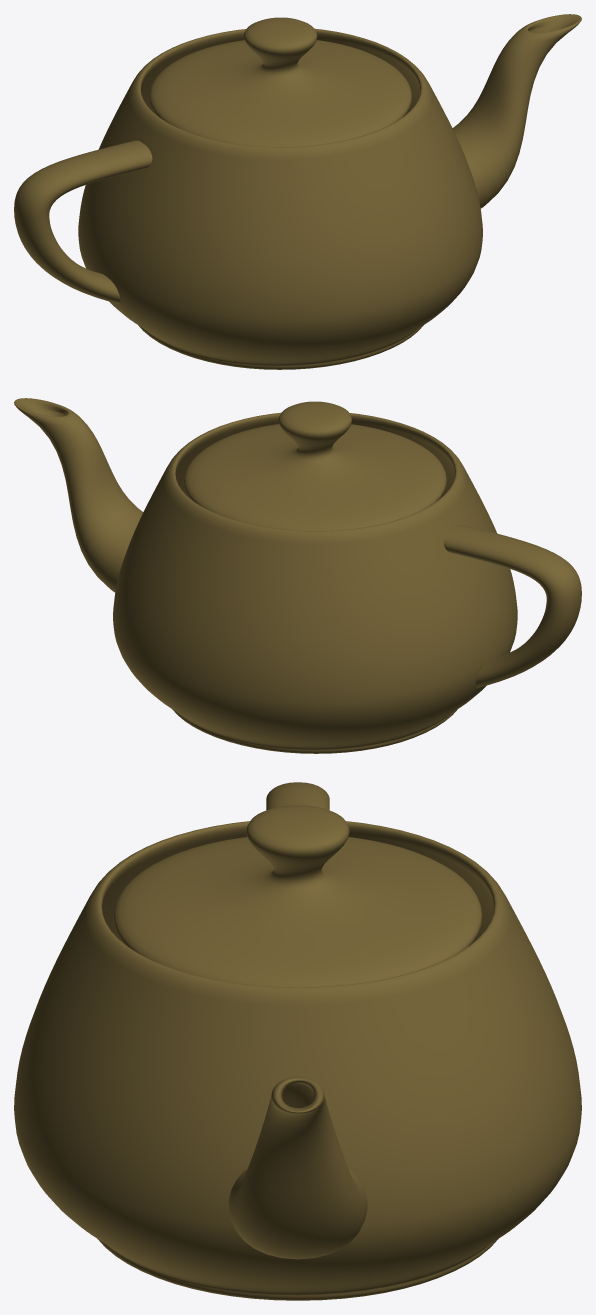
Rendered from elfs.dae.
3 renders of one model, top to bottom at view 1: azimuth 30°, elevation 25°; view 2: azimuth 150°, elevation 25°; view 3: azimuth 270°, elevation 25°, orthographic. The views are drawn at different scales.
Size of the model in its own units: 1634 by 800 by 1016.
